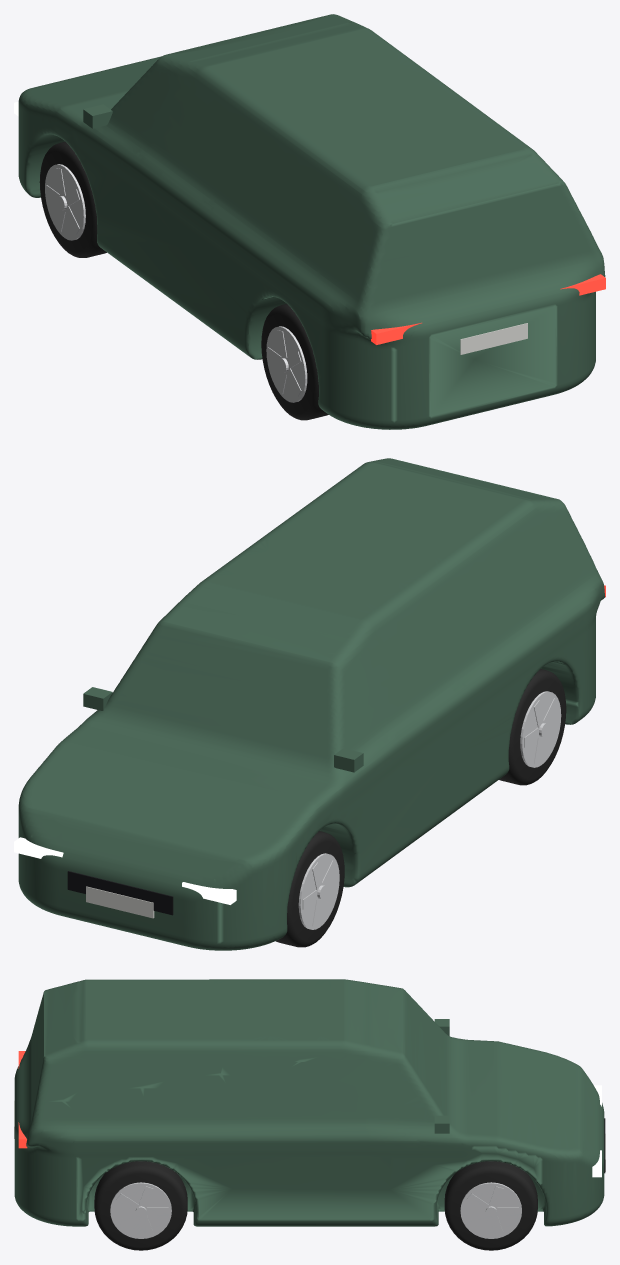
Rendered from suv_green.glb.
The picture shows the model from 3 angles, top to bottom: view 1: azimuth 30°, elevation 25°; view 2: azimuth 150°, elevation 25°; view 3: azimuth 270°, elevation 25°; orthographic projection. The views are drawn at different scales.
Parts seen in each view (by area): view 1: Body, wheel_rl, wheel_fl, Details; view 2: Body, wheel_fl, wheel_rl, Details; view 3: Body, wheel_rr, wheel_fr, Details.
Boxes of the visible parts, x1,y1,x2,y2 form: Body: (18,14,605,429); wheel_rl: (261,304,328,420); wheel_fl: (39,141,106,257); Details: (14,101,605,354); Body: (18,458,605,950); wheel_fl: (276,831,344,947); wheel_rl: (499,669,566,785); Details: (14,585,605,918); Body: (14,979,604,1226); wheel_rr: (94,1161,187,1250); wheel_fr: (444,1161,537,1250); Details: (14,1019,605,1177).
Size of the model in its own units: 2.01 by 1.74 by 4.82.
